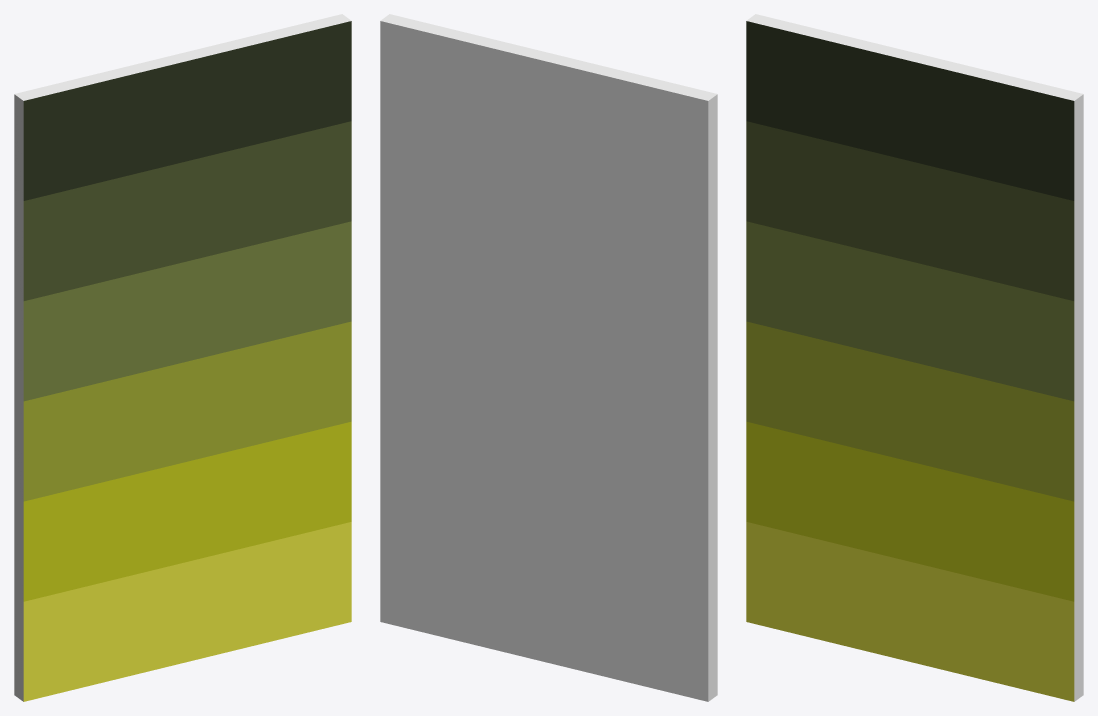
File: Prop_Wall_03.fbx
3 renders of one model, left to right at view 1: azimuth 30°, elevation 25°; view 2: azimuth 150°, elevation 25°; view 3: azimuth 330°, elevation 25°, orthographic.
Visible parts, largest first — view 1: Prop_Wall_03; view 2: Prop_Wall_03; view 3: Prop_Wall_03.
Boxes of the visible parts, x1,y1,x2,y2 form: Prop_Wall_03: [14, 14, 351, 701]; Prop_Wall_03: [380, 14, 717, 701]; Prop_Wall_03: [746, 14, 1083, 701].
Bounding box in the file's own units: 200 × 350 × 10.
